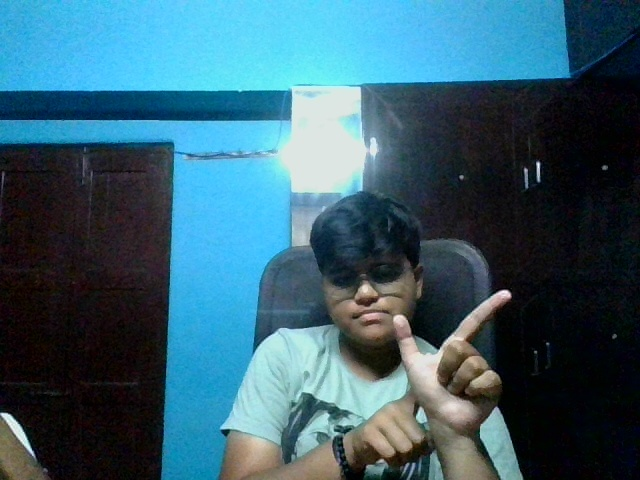Y: (341, 257, 552, 473)
